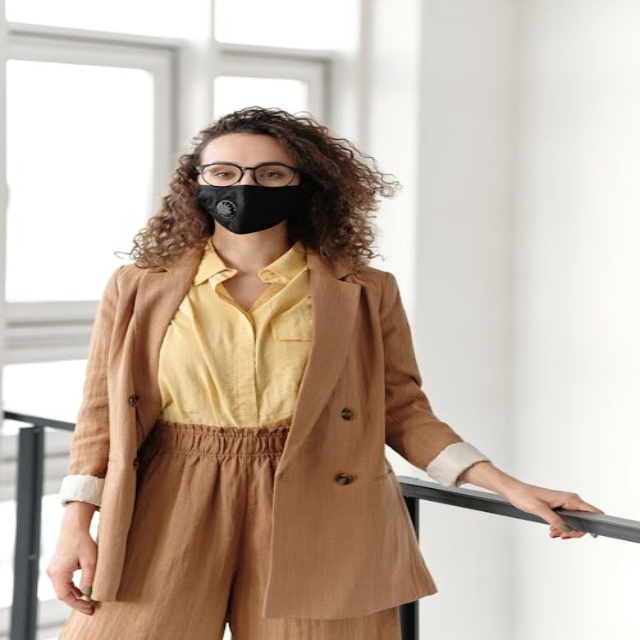Gafas: (194, 162, 305, 187)
Mascara: (194, 180, 306, 234)
Sin_guantes: (506, 480, 599, 544), (49, 534, 101, 616)
